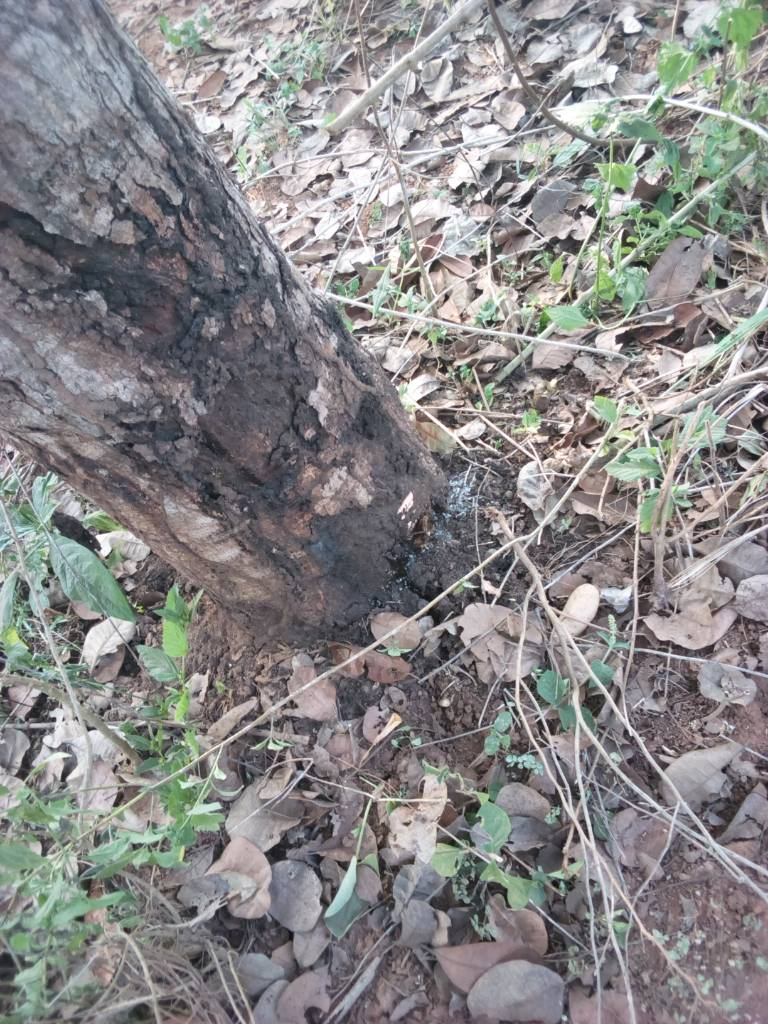Gommose: (124, 160, 449, 607)
